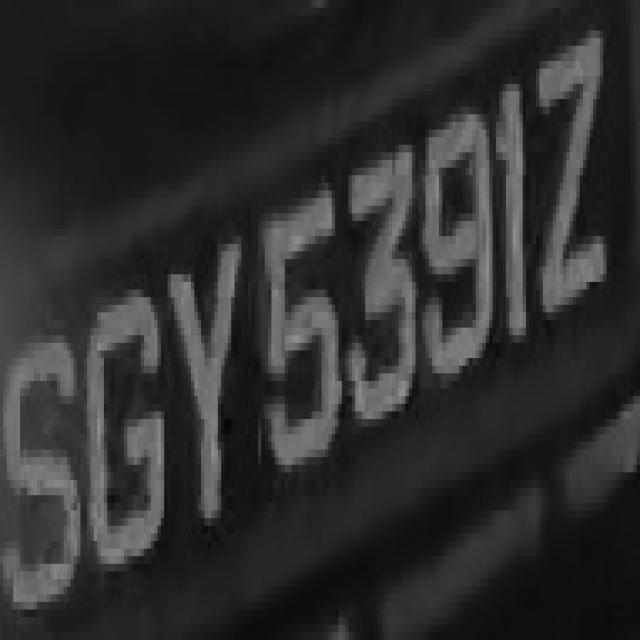1: (483, 38, 536, 358)
3: (335, 130, 426, 464)
5: (255, 168, 342, 480)
9: (412, 91, 493, 396)
G: (80, 266, 164, 572)
S: (17, 297, 80, 640)
Y: (158, 214, 242, 548)
Z: (530, 15, 624, 320)
